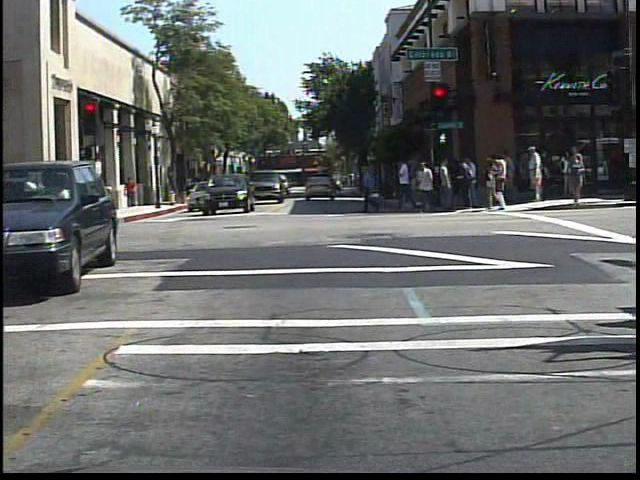person: (524, 146, 549, 206), (34, 171, 58, 232), (1, 174, 23, 228), (124, 175, 139, 208)
